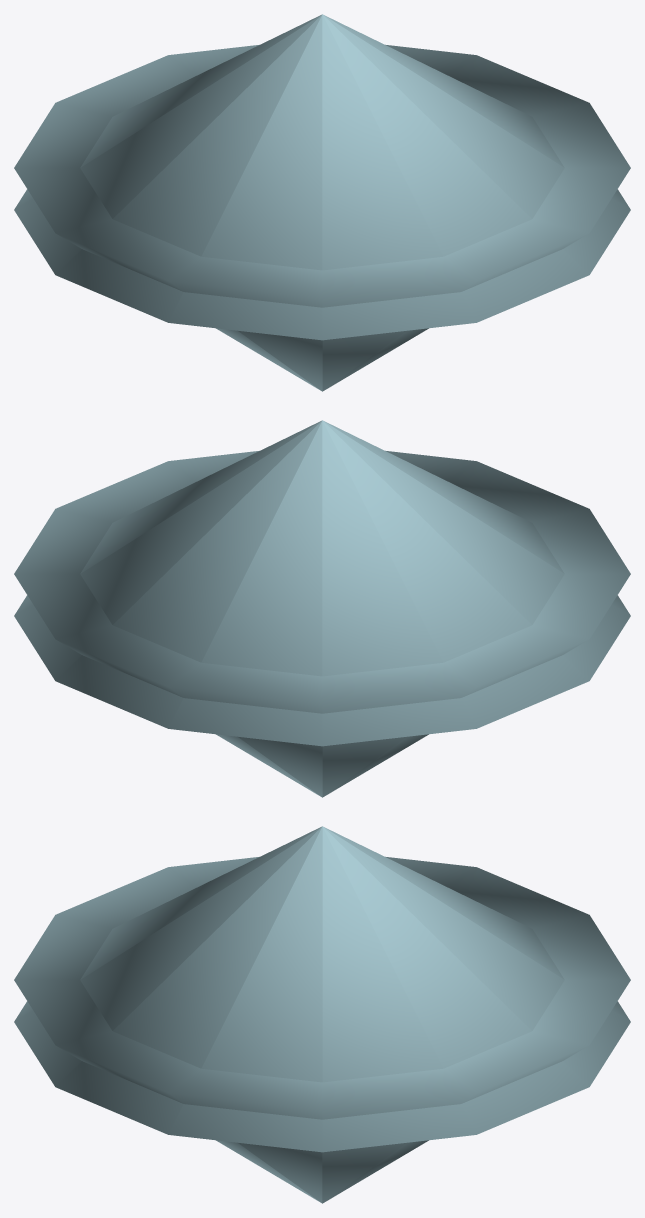
The model's file is recording_stone.glb.
The picture shows the model from 3 angles, top to bottom: view 1: azimuth 30°, elevation 25°; view 2: azimuth 150°, elevation 25°; view 3: azimuth 270°, elevation 25°; orthographic projection.
Visible parts, largest first — view 1: crystal_upper, crystal_lower; view 2: crystal_upper, crystal_lower; view 3: crystal_upper, crystal_lower.
Boxes of the visible parts, x1=… form: crystal_upper: x1=14, y1=14, x2=630, y2=340; crystal_lower: x1=14, y1=44, x2=630, y2=391; crystal_upper: x1=14, y1=420, x2=630, y2=746; crystal_lower: x1=14, y1=450, x2=630, y2=797; crystal_upper: x1=14, y1=826, x2=630, y2=1152; crystal_lower: x1=14, y1=856, x2=630, y2=1203.
Size of the model in its own units: 0.36 by 0.243 by 0.36.
